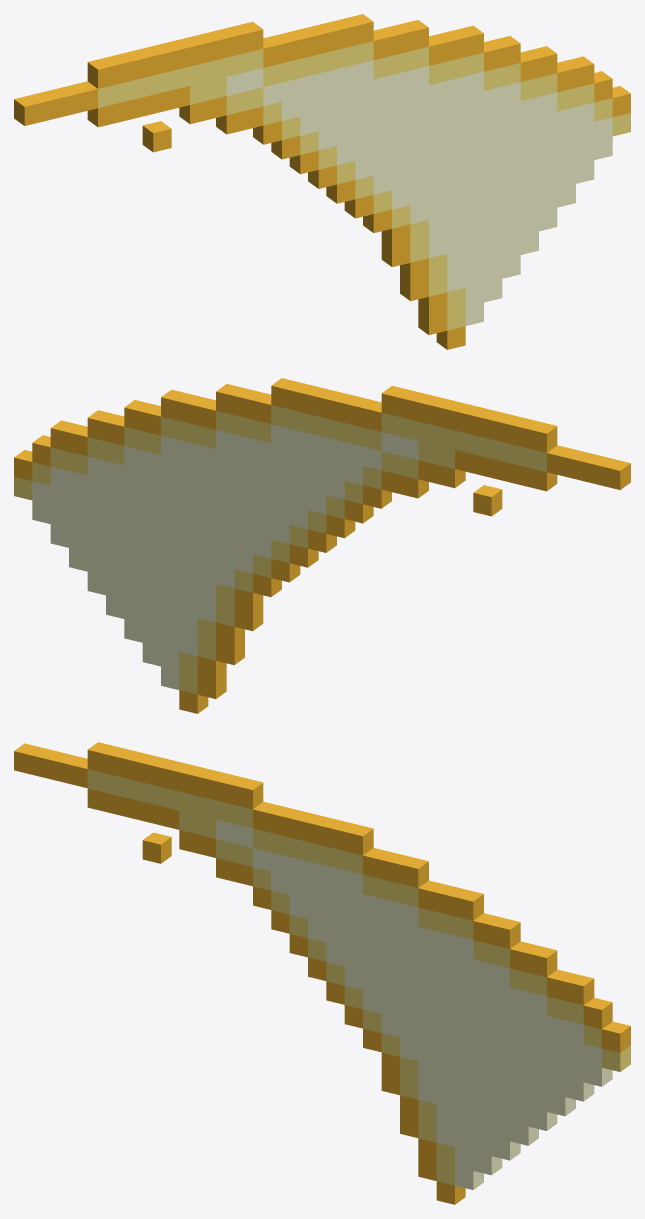
The model's file is Fight_717_2_12_fx.obj.
3 renders of one model, top to bottom at view 1: azimuth 30°, elevation 25°; view 2: azimuth 150°, elevation 25°; view 3: azimuth 330°, elevation 25°, orthographic.
Bounding box in the file's own units: 3.3 × 1.9 × 0.1.
Materials: 1 (1 with a texture image).
